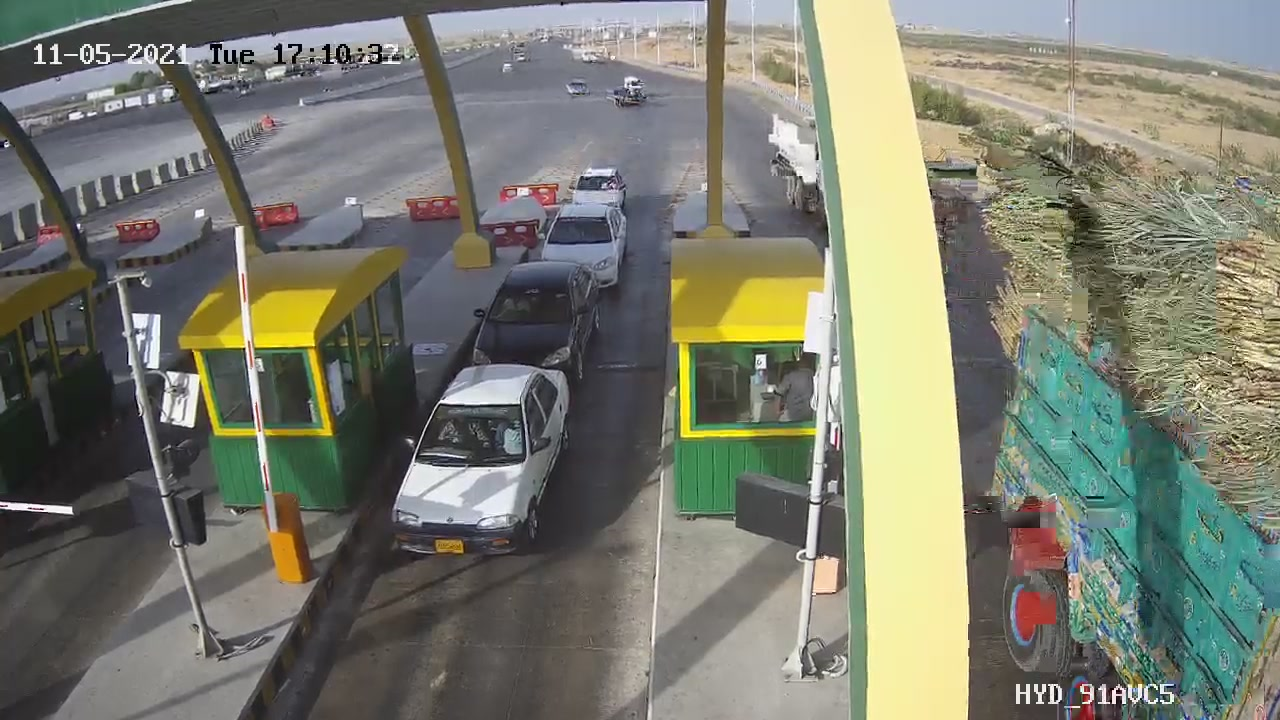F1: (374, 351, 587, 578), (453, 253, 618, 405)
